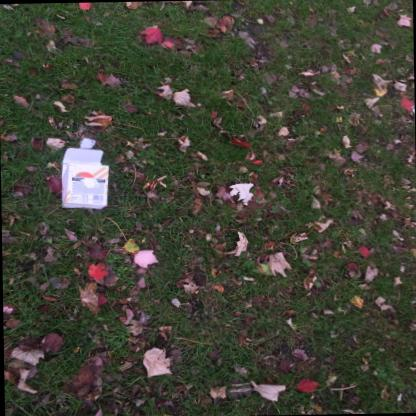Paper: (60, 146, 107, 209)
Plastic: (77, 137, 94, 149)
